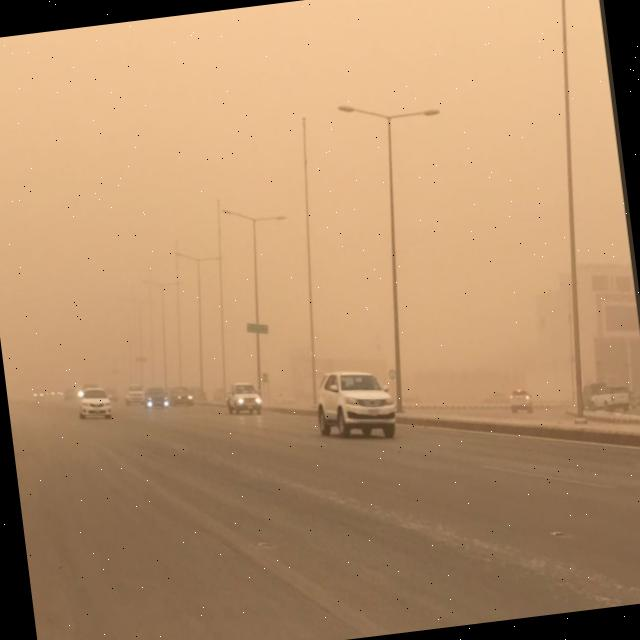car: (309, 362, 398, 444), (588, 377, 630, 416), (225, 380, 263, 417), (76, 384, 113, 421), (581, 377, 605, 412), (506, 386, 534, 412), (121, 378, 146, 406), (166, 383, 194, 406), (144, 381, 168, 407), (484, 384, 508, 405)
